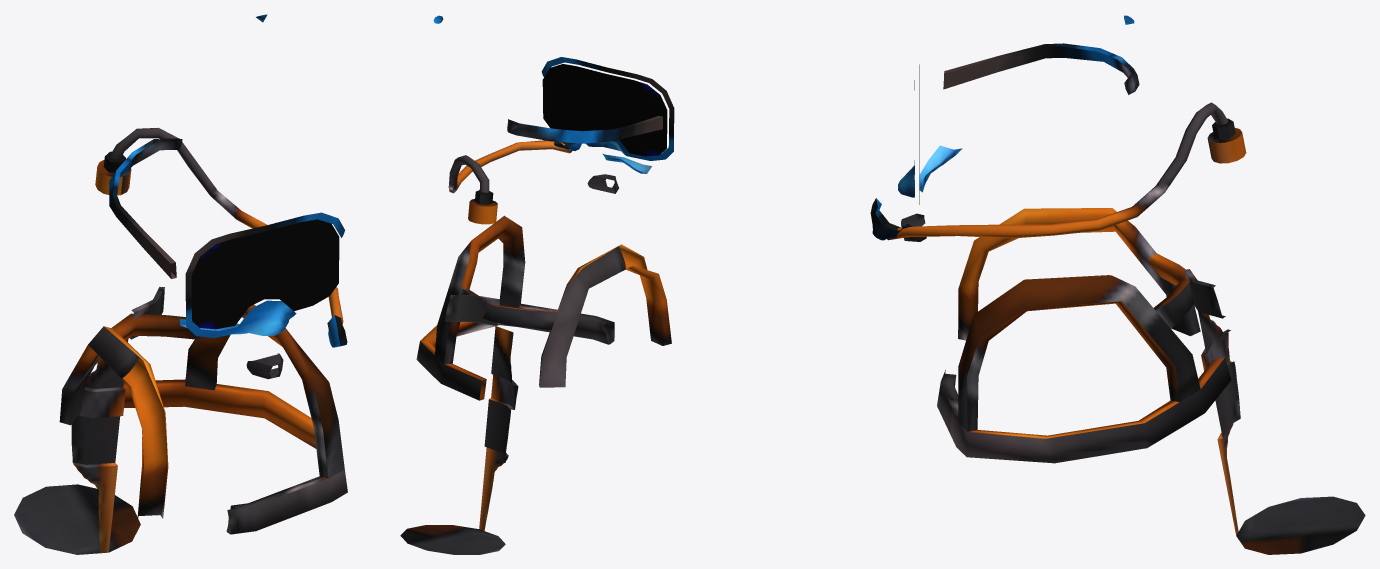
The model's file is Scuba Gear .fbx.
The picture shows the model from 3 angles, left to right: view 1: azimuth 30°, elevation 25°; view 2: azimuth 150°, elevation 25°; view 3: azimuth 270°, elevation 25°; orthographic projection. The views are drawn at different scales.
Parts seen in each view (by area): view 1: Tank Capsule, Diving Mask Glass, Diving Mask; view 2: Tank Capsule, Diving Mask Glass, Diving Mask; view 3: Tank Capsule, Diving Mask.
Boxes of the visible parts, bbox=[...] form: Tank Capsule: bbox=[14, 127, 347, 554]; Diving Mask Glass: bbox=[191, 219, 339, 329]; Diving Mask: bbox=[109, 14, 347, 347]; Tank Capsule: bbox=[400, 140, 671, 554]; Diving Mask Glass: bbox=[542, 64, 667, 156]; Diving Mask: bbox=[433, 15, 674, 173]; Tank Capsule: bbox=[887, 102, 1365, 554]; Diving Mask: bbox=[870, 15, 1139, 240].
Size of the model in its own units: 27.96 by 55.74 by 56.25.
